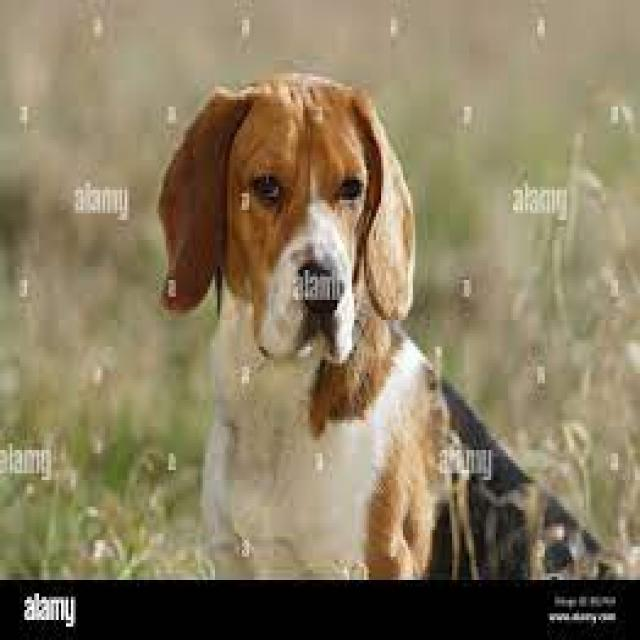Dog: (152, 68, 640, 576)
